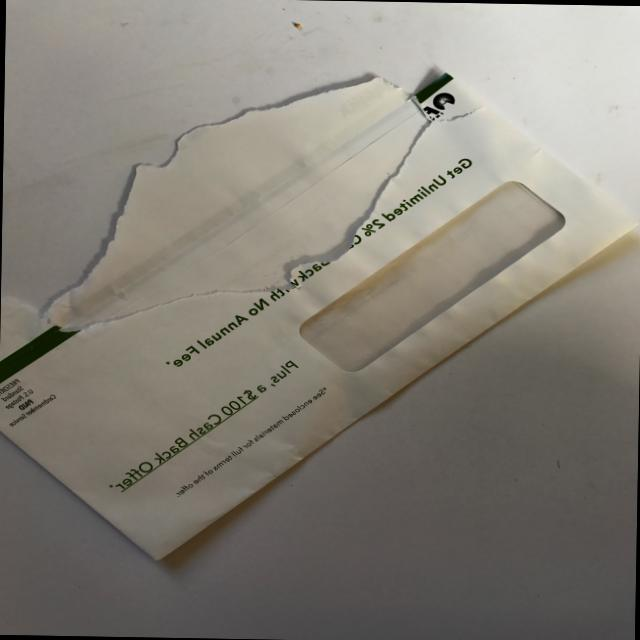Paper: (0, 47, 640, 589)
